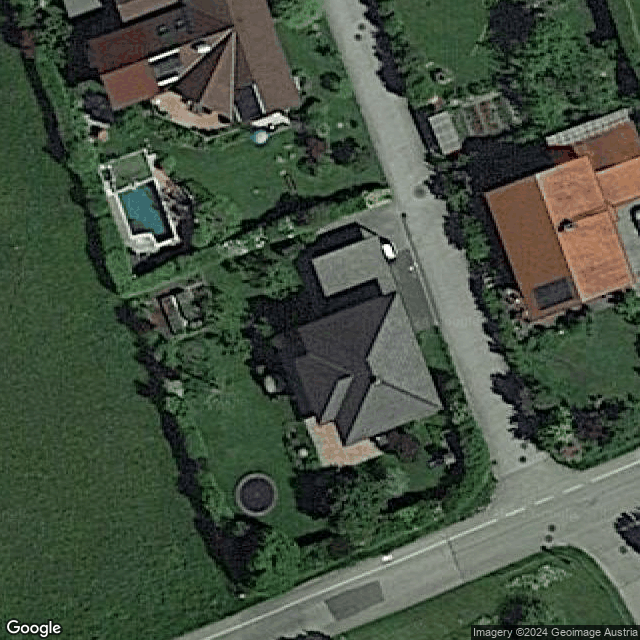dormer: (295, 355, 354, 424)
obstacles: (559, 220, 579, 234), (194, 41, 211, 55)
roof: (90, 1, 301, 124), (483, 155, 633, 323), (294, 291, 443, 446), (549, 120, 640, 222)
